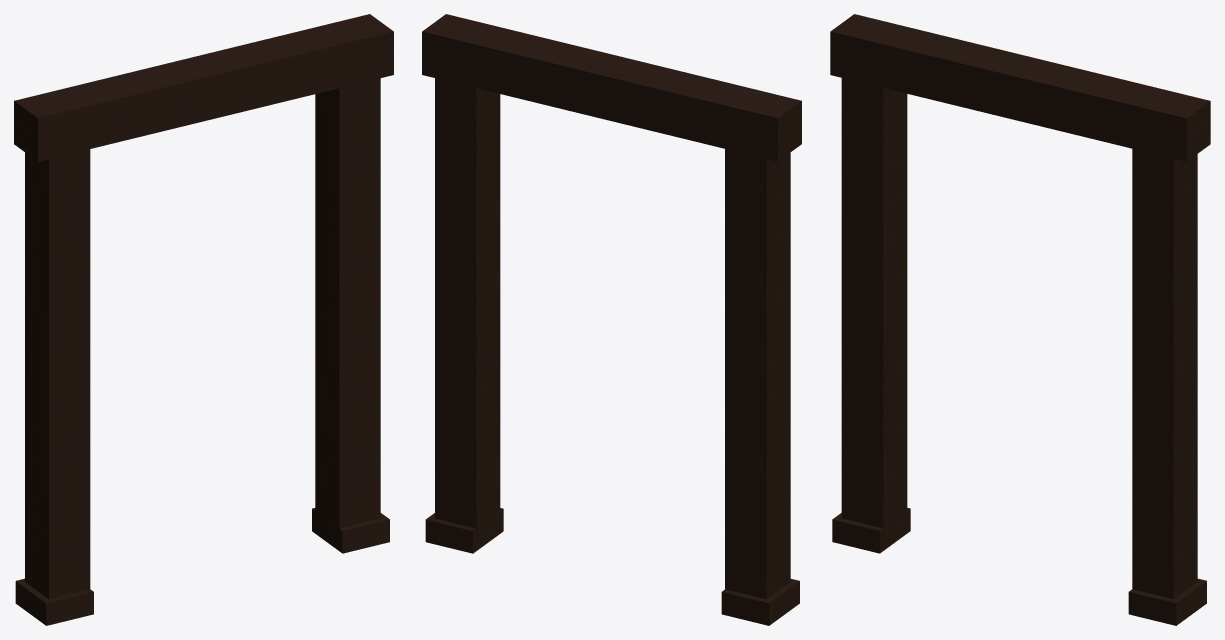
The model's file is Door_Frame_03.FBX.
3 views of the same model, side by side, from view 1: azimuth 30°, elevation 25°; view 2: azimuth 150°, elevation 25°; view 3: azimuth 330°, elevation 25° (orthographic).
Parts seen in each view (by area): view 1: DoorFrame_02; view 2: DoorFrame_02; view 3: DoorFrame_02.
Part boxes in pixels (x1,y1,x2,y2): DoorFrame_02: [14, 14, 393, 625]; DoorFrame_02: [422, 14, 801, 625]; DoorFrame_02: [830, 14, 1210, 625].
Size of the model in its own units: 11811 by 16063 by 1768.
